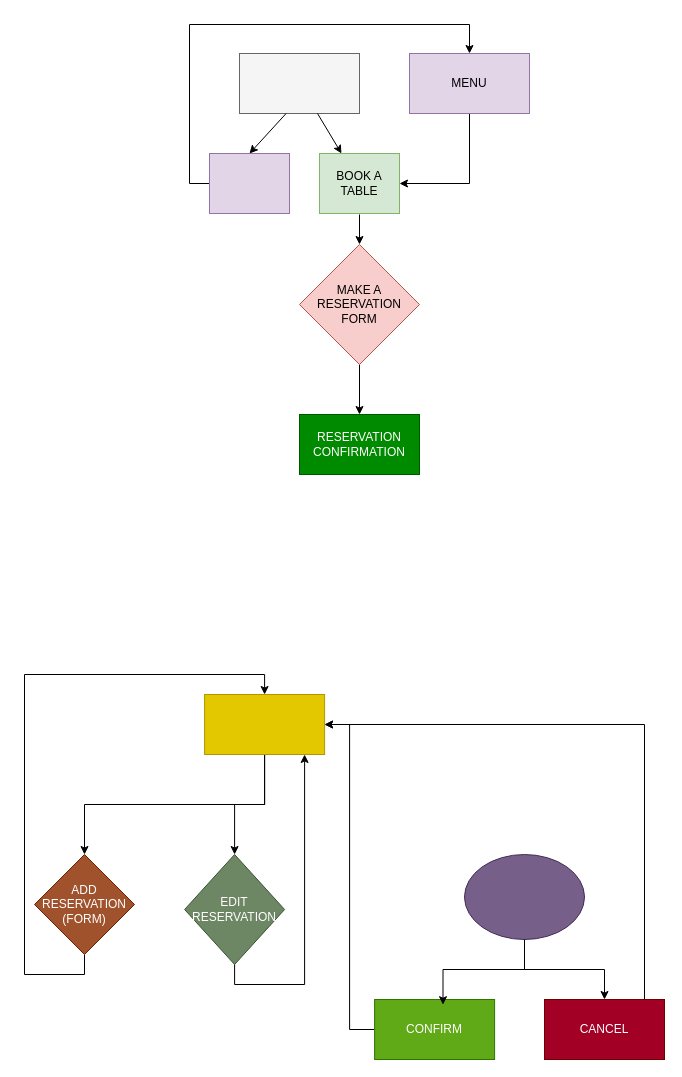
The diagram is 682 pixels wide and 1077 high, and some of its shapes have lost their labels. The centre of each missing label's shape, as x and y in pixels:
"DELETE RESERVATION" goes at point (524, 897).
"HOME" goes at point (299, 83).
"OUR MENU" goes at point (249, 183).
"RESERVATIONS" goes at point (264, 724).
